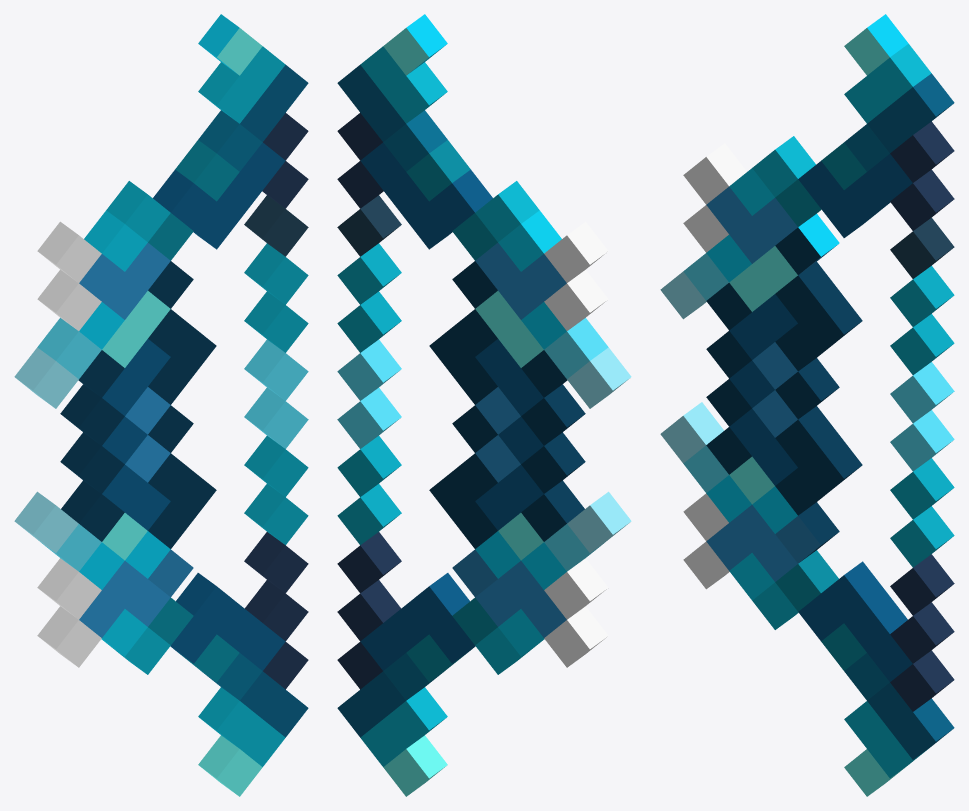
Rendered from SM_Winters_Touch_01.glb.
The picture shows the model from 3 angles, left to right: view 1: azimuth 30°, elevation 25°; view 2: azimuth 150°, elevation 25°; view 3: azimuth 330°, elevation 25°; orthographic projection.
Visible parts, largest first — view 1: SM_Winters_Touch_01.001; view 2: SM_Winters_Touch_01.001; view 3: SM_Winters_Touch_01.001.
Part boxes in pixels (box(x1,y1,x2,y2)): SM_Winters_Touch_01.001: box(14, 14, 308, 796); SM_Winters_Touch_01.001: box(337, 14, 631, 796); SM_Winters_Touch_01.001: box(660, 14, 954, 796).
Size of the model in its own units: 53.03 by 141 by 6.25.
1 material, 1 textured.
